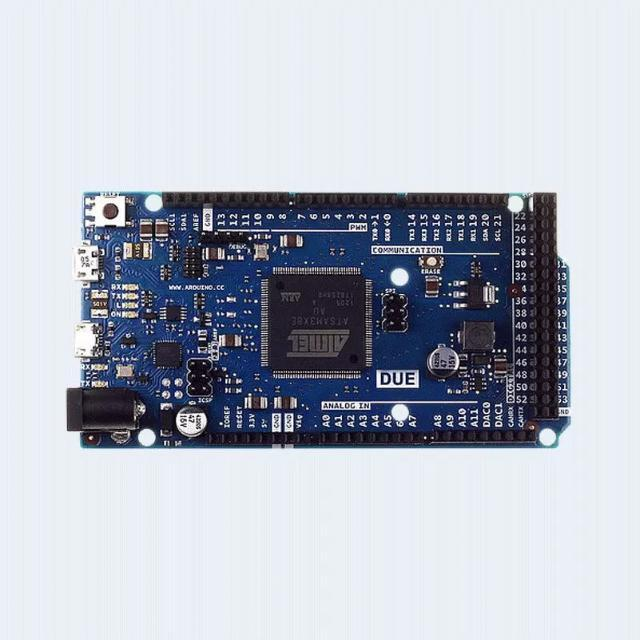Arduino-Due: (67, 193, 569, 448)
